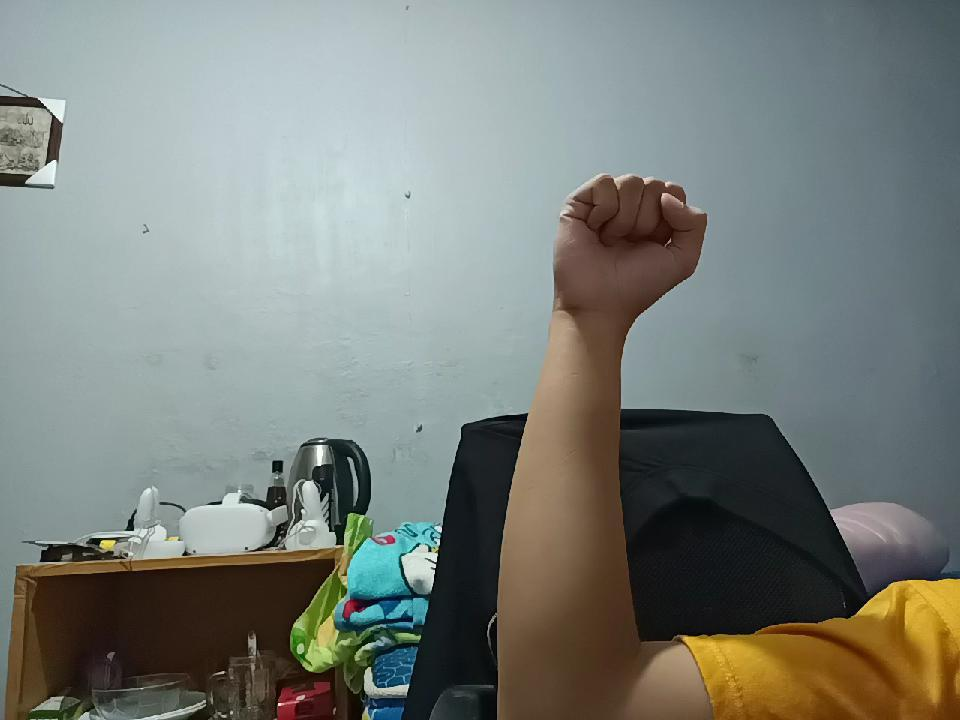rock: (544, 164, 702, 328)
